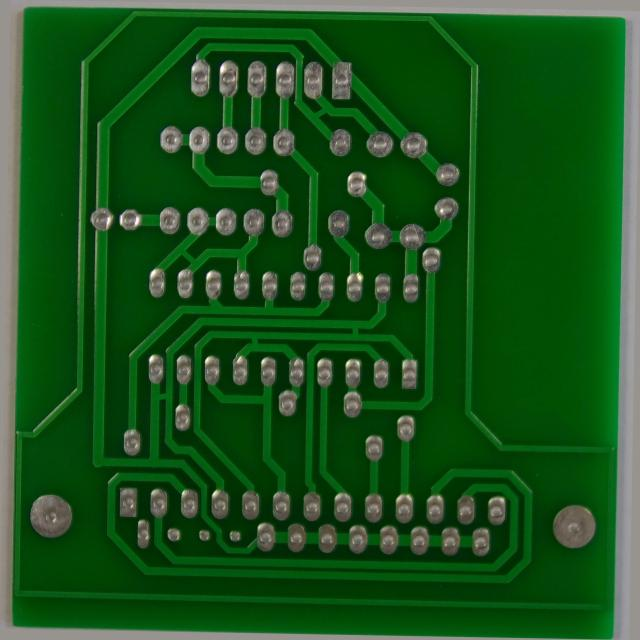short: (166, 242, 201, 272), (297, 96, 332, 122), (342, 314, 368, 345), (240, 331, 267, 354), (144, 392, 175, 412)
